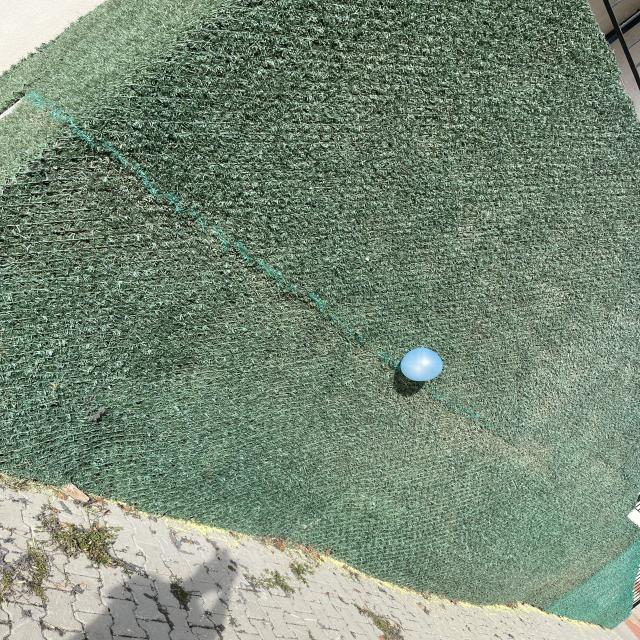balloon: (401, 347, 442, 381)
